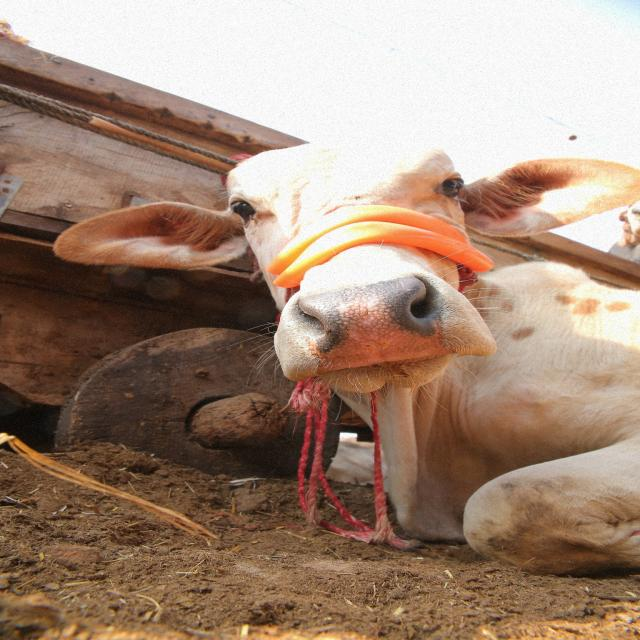muzzles: (279, 271, 457, 376)
